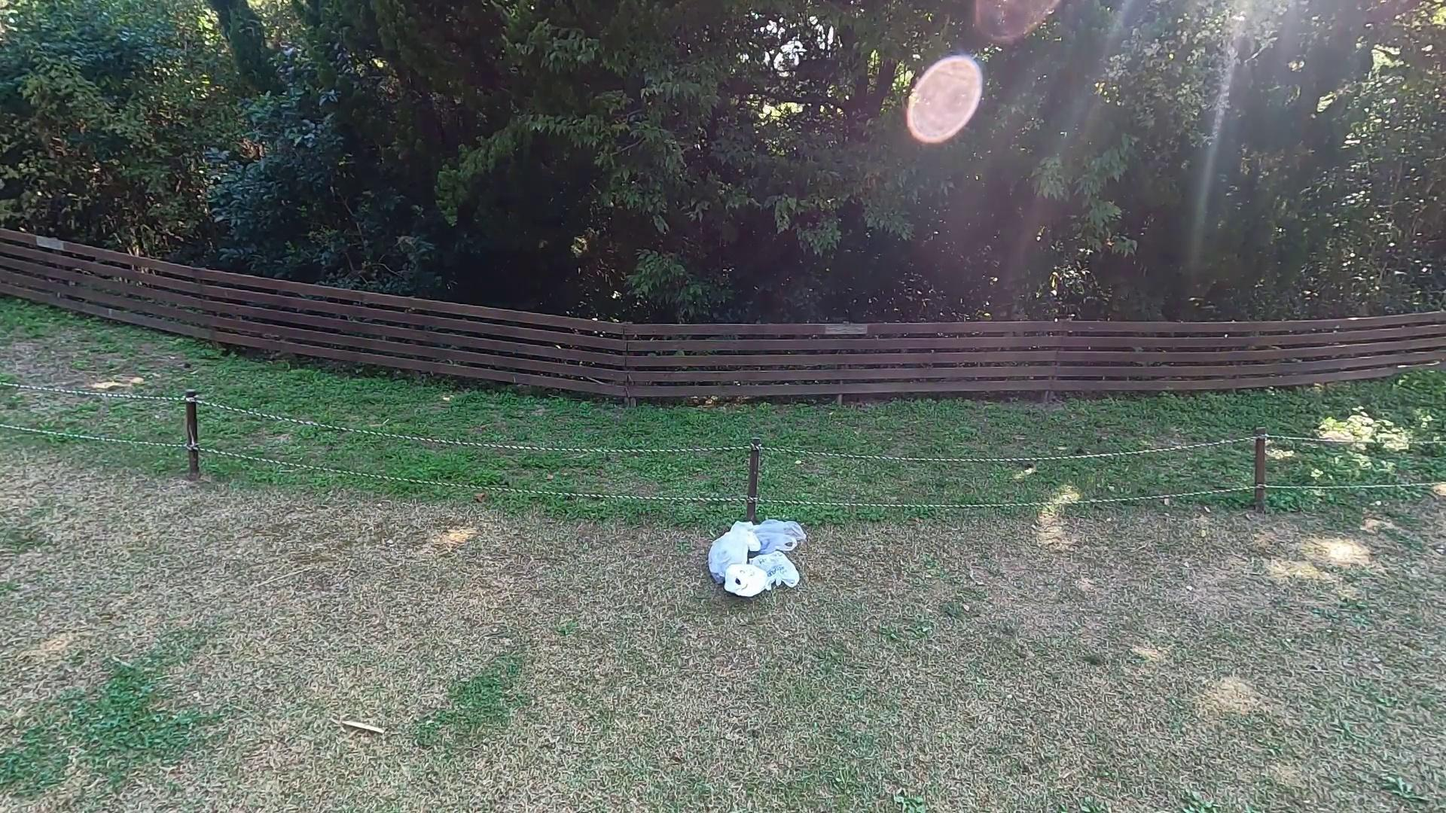trash: (706, 518, 759, 591), (747, 517, 807, 564), (740, 550, 802, 591), (724, 564, 767, 599)
